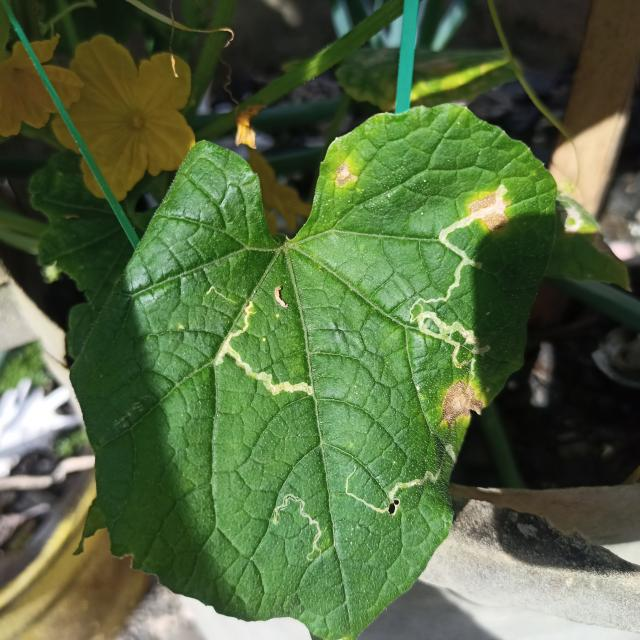disease_cucumber: (438, 377, 481, 428), (472, 190, 511, 232), (334, 163, 358, 188)
